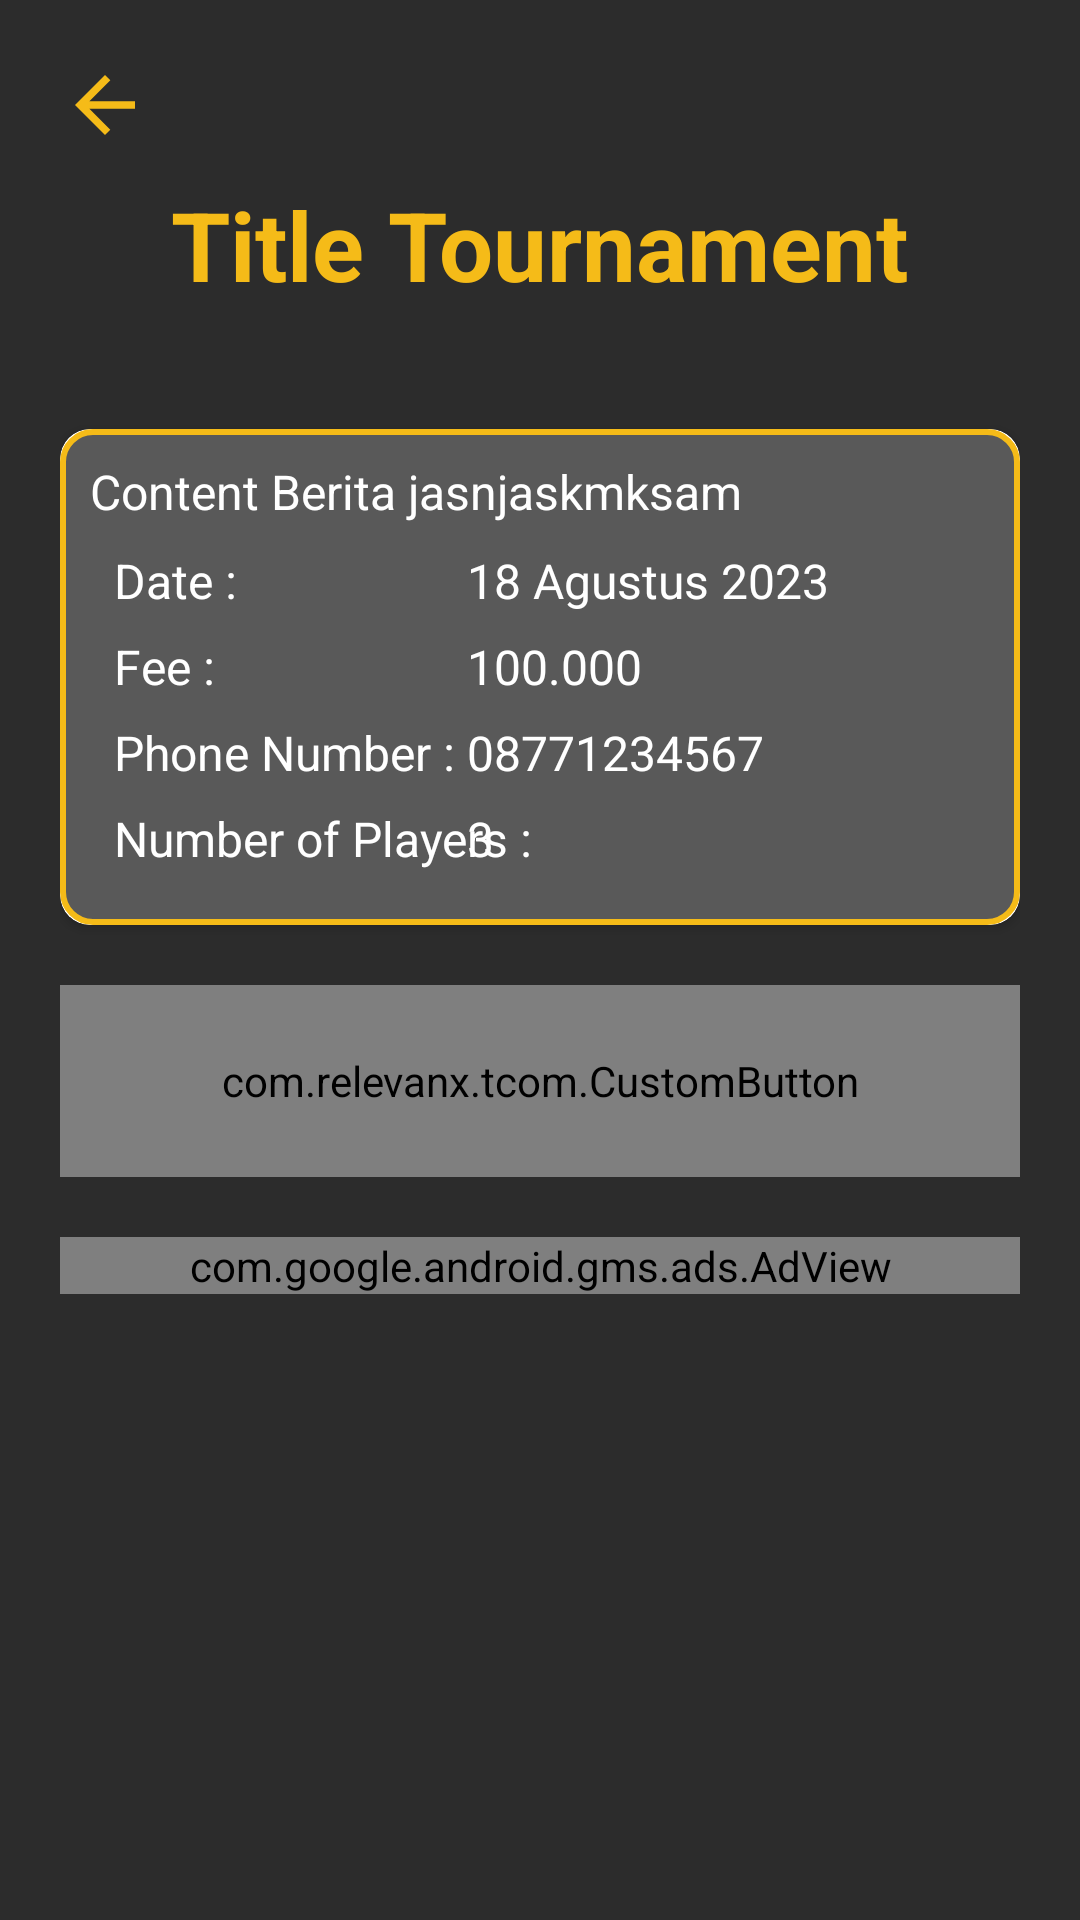

Icon click points for this 1080*1920 phone screenshot, format [x,y]:
arrow back: [105,105]
